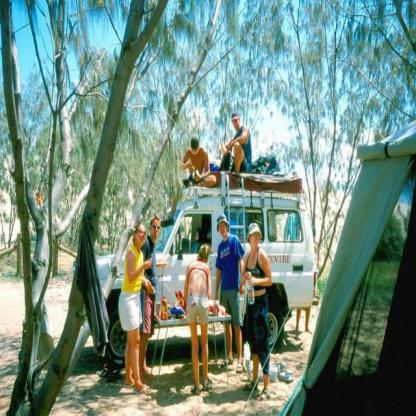face: (137, 225, 147, 245), (251, 228, 261, 247), (152, 219, 161, 238), (219, 221, 227, 237), (233, 117, 240, 132)
